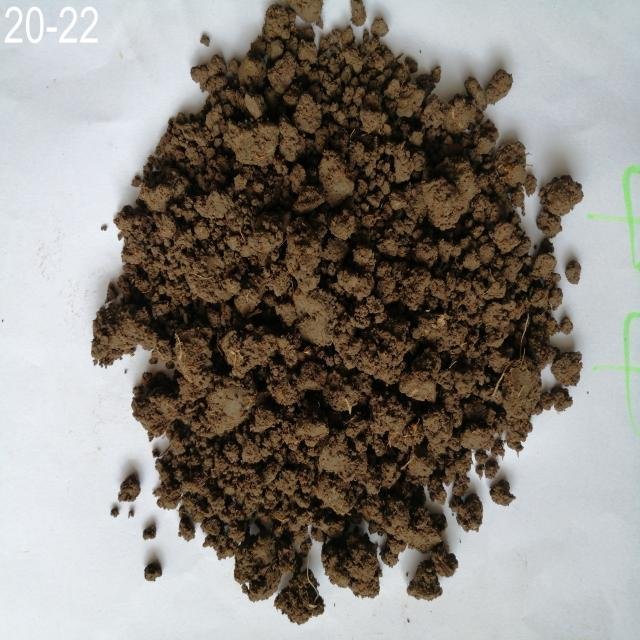soil: (176, 130, 472, 492)
